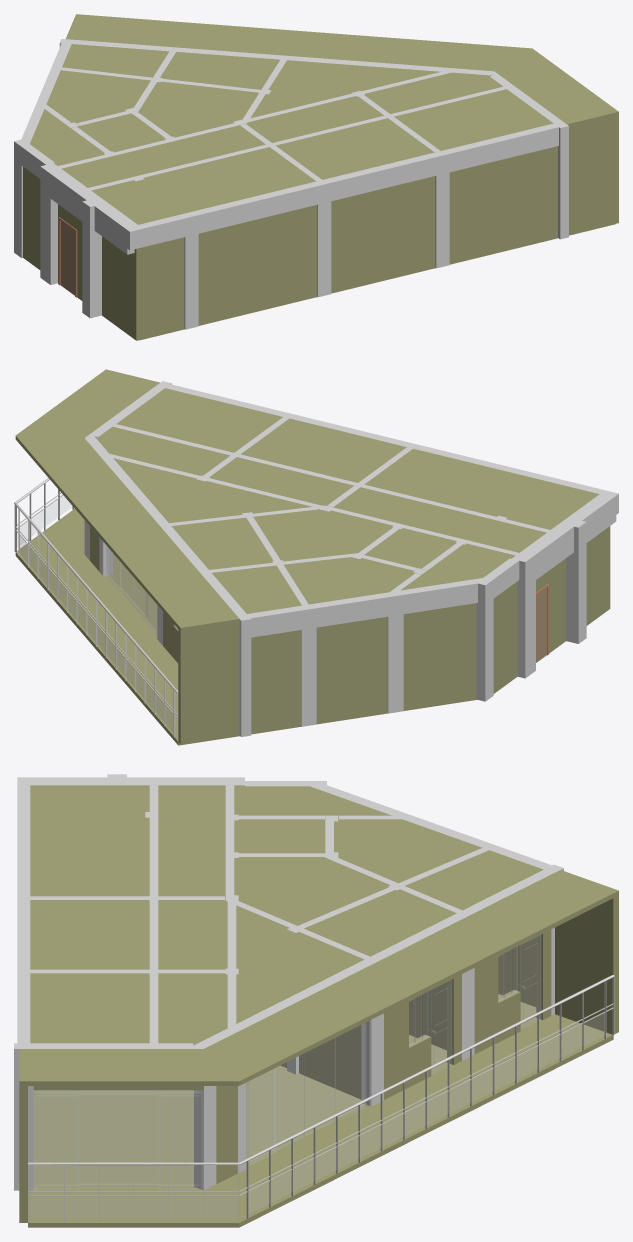
3 renders of one model, top to bottom at view 1: azimuth 30°, elevation 25°; view 2: azimuth 150°, elevation 25°; view 3: azimuth 270°, elevation 25°, orthographic. The views are drawn at different scales.
Parts seen in each view (by area): view 1: product-f2dbdb85-ab36-48c9-9621-4df98352a65b-body, product-f2dbdb85-ab36-48c9-9621-4df9835200b1-body, product-f2dbdb85-ab36-48c9-9621-4df98352020a-body, product-f2dbdb85-ab36-48c9-9621-4df9835200b0-body, product-f2dbdb85-ab36-48c9-9621-4df983524c81-body, product-f2dbdb85-ab36-48c9-9621-4df9835200b7-body, product-f2dbdb85-ab36-48c9-9621-4df983520156-body, product-f2dbdb85-ab36-48c9-9621-4df983520152-body, product-f2dbdb85-ab36-48c9-9621-4df983520150-body, product-f2dbdb85-ab36-48c9-9621-4df983518404-body, product-f2dbdb85-ab36-48c9-9621-4df9835202f7-body, product-f2dbdb85-ab36-48c9-9621-4df9835202ff-body (+21 smaller); view 2: product-f2dbdb85-ab36-48c9-9621-4df98352a65b-body, product-f2dbdb85-ab36-48c9-9621-4df983520f41-body, product-f2dbdb85-ab36-48c9-9621-4df983524b04-body, product-f2dbdb85-ab36-48c9-9621-4df98352020b-body, product-f2dbdb85-ab36-48c9-9621-4df9835200c6-body, product-f2dbdb85-ab36-48c9-9621-4df98352ae70-body, product-f2dbdb85-ab36-48c9-9621-4df9835200c0-body, product-f2dbdb85-ab36-48c9-9621-4df983520215-body, product-f2dbdb85-ab36-48c9-9621-4df9835202f7-body, product-f2dbdb85-ab36-48c9-9621-4df9835202ff-body, product-f2dbdb85-ab36-48c9-9621-4df9835202ac-body, product-f2dbdb85-ab36-48c9-9621-4df9835202a2-body (+22 smaller); view 3: product-f2dbdb85-ab36-48c9-9621-4df98352a65b-body, product-f2dbdb85-ab36-48c9-9621-4df983520f41-body, product-f2dbdb85-ab36-48c9-9621-4df98352ae70-body, product-f2dbdb85-ab36-48c9-9621-4df9835240e1-body, product-f2dbdb85-ab36-48c9-9621-4df9835240e2-body, product-f2dbdb85-ab36-48c9-9621-4df983524b04-body, product-f2dbdb85-ab36-48c9-9621-4df9835200b9-body, product-f2dbdb85-ab36-48c9-9621-4df9835200bc-body, product-f2dbdb85-ab36-48c9-9621-4df9835200bd-body, product-f2dbdb85-ab36-48c9-9621-4df9835240e0-body, product-f2dbdb85-ab36-48c9-9621-4df9835240e7-body, product-f2dbdb85-ab36-48c9-9621-4df9835202cd-body (+24 smaller).
Part boxes in pixels (x1,y1,x2,y2): product-f2dbdb85-ab36-48c9-9621-4df98352a65b-body: (30,14,614,224); product-f2dbdb85-ab36-48c9-9621-4df9835200b1-body: (198,205,317,325); product-f2dbdb85-ab36-48c9-9621-4df98352020a-body: (449,146,557,264); product-f2dbdb85-ab36-48c9-9621-4df9835200b0-body: (331,176,435,293); product-f2dbdb85-ab36-48c9-9621-4df983524c81-body: (564,109,618,235); product-f2dbdb85-ab36-48c9-9621-4df9835200b7-body: (133,237,184,340); product-f2dbdb85-ab36-48c9-9621-4df983520156-body: (194,182,317,233); product-f2dbdb85-ab36-48c9-9621-4df983520152-body: (445,123,558,172); product-f2dbdb85-ab36-48c9-9621-4df983520150-body: (326,153,436,201); product-f2dbdb85-ab36-48c9-9621-4df983518404-body: (102,236,132,337); product-f2dbdb85-ab36-48c9-9621-4df9835202f7-body: (82,197,107,318); product-f2dbdb85-ab36-48c9-9621-4df9835202ff-body: (40,163,63,284); product-f2dbdb85-ab36-48c9-9621-4df98352a65b-body: (15,372,599,628); product-f2dbdb85-ab36-48c9-9621-4df983520f41-body: (15,508,477,745); product-f2dbdb85-ab36-48c9-9621-4df983524b04-body: (178,616,239,744); product-f2dbdb85-ab36-48c9-9621-4df98352020b-body: (403,603,476,710); product-f2dbdb85-ab36-48c9-9621-4df9835200c6-body: (316,616,387,723); product-f2dbdb85-ab36-48c9-9621-4df98352ae70-body: (14,478,178,741); product-f2dbdb85-ab36-48c9-9621-4df9835200c0-body: (251,630,300,733); product-f2dbdb85-ab36-48c9-9621-4df983520215-body: (493,581,517,693); product-f2dbdb85-ab36-48c9-9621-4df9835202f7-body: (560,517,586,643); product-f2dbdb85-ab36-48c9-9621-4df9835202ff-body: (512,551,535,678); product-f2dbdb85-ab36-48c9-9621-4df9835202ac-body: (476,577,493,701); product-f2dbdb85-ab36-48c9-9621-4df9835202a2-body: (385,590,403,713); product-f2dbdb85-ab36-48c9-9621-4df98352a65b-body: (28,785,613,1085); product-f2dbdb85-ab36-48c9-9621-4df983520f41-body: (28,994,613,1227); product-f2dbdb85-ab36-48c9-9621-4df98352ae70-body: (28,975,614,1223); product-f2dbdb85-ab36-48c9-9621-4df9835240e1-body: (33,1090,203,1190); product-f2dbdb85-ab36-48c9-9621-4df9835240e2-body: (246,1020,371,1168); product-f2dbdb85-ab36-48c9-9621-4df983524b04-body: (555,870,618,1034); product-f2dbdb85-ab36-48c9-9621-4df9835200b9-body: (474,929,551,1053); product-f2dbdb85-ab36-48c9-9621-4df9835200bc-body: (384,974,461,1099); product-f2dbdb85-ab36-48c9-9621-4df9835200bd-body: (299,1025,361,1099); product-f2dbdb85-ab36-48c9-9621-4df9835240e0-body: (409,979,452,1074); product-f2dbdb85-ab36-48c9-9621-4df9835240e7-body: (498,934,541,1029); product-f2dbdb85-ab36-48c9-9621-4df9835202cd-body: (194,1039,216,1190).
Size of the model in its own units: 16.77 by 3.72 by 13.94.
